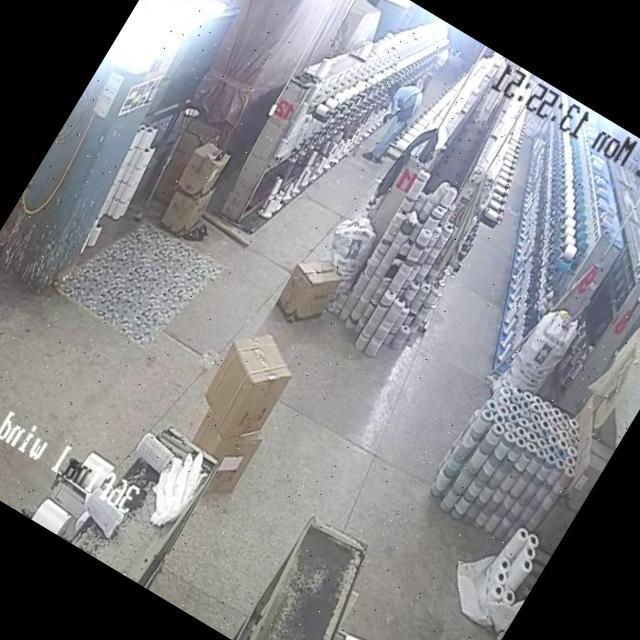person: (360, 74, 430, 161)
